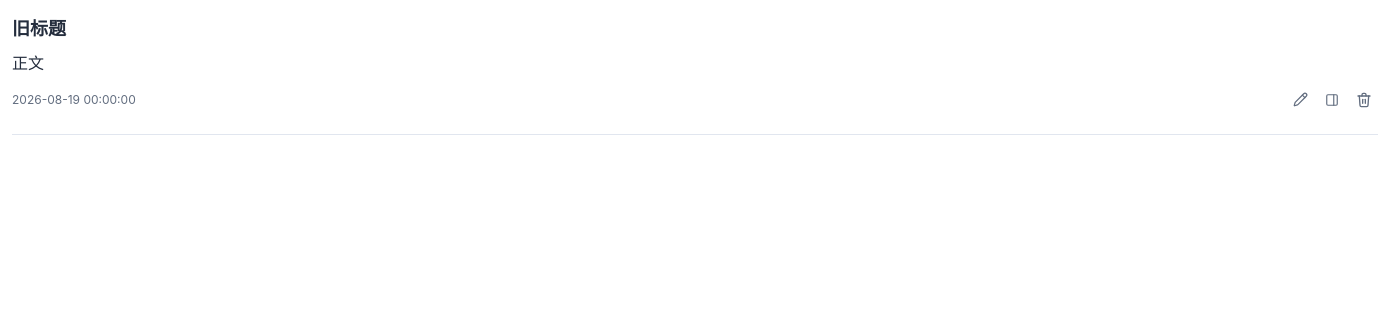
Test: ModernNoteCard title editing › fills and undoes an AI suggestion only in the draft, then cancels the whole edit
What coordinates should you click on to do the following:
click the text "正文"
I would click on:
 (28, 63)
Its box is top-left (12, 53), bottom-right (44, 73).
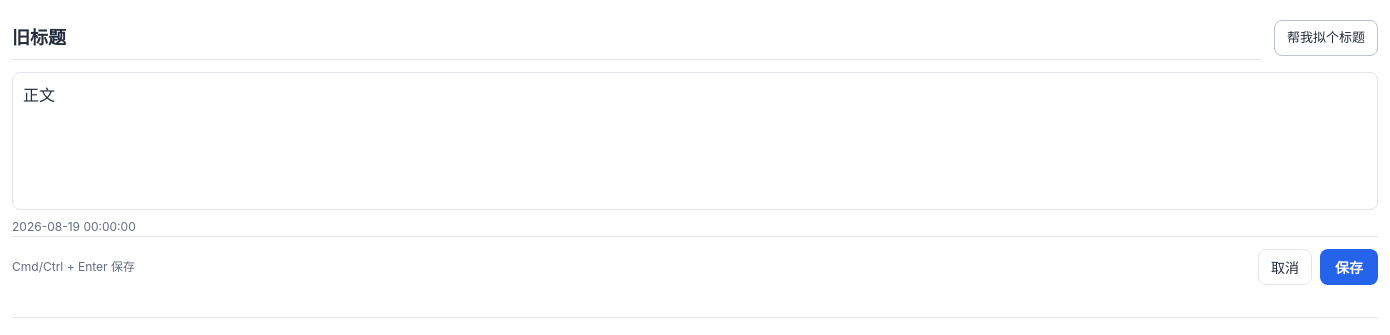
What coordinates should you click on to do the following:
click the button "帮我拟个标题"
I would click on:
 (1326, 38)
Its box is top-left (1274, 20), bottom-right (1378, 56).
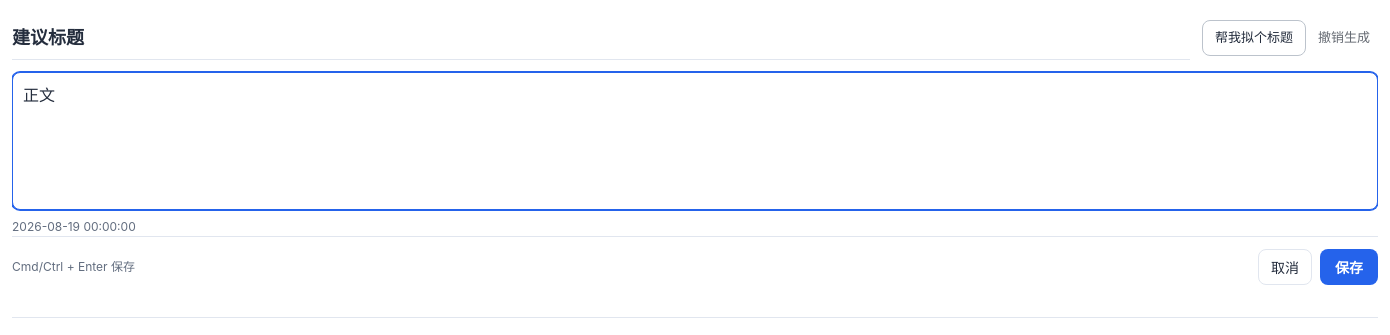
expect the field named "笔记标题" holds "建议标题": met, box top-left (12, 16), bottom-right (1190, 60)
What coordinates should you click on to do the following:
click the button "撤销生成"
I would click on:
 (1344, 38)
Its box is top-left (1310, 20), bottom-right (1378, 56).
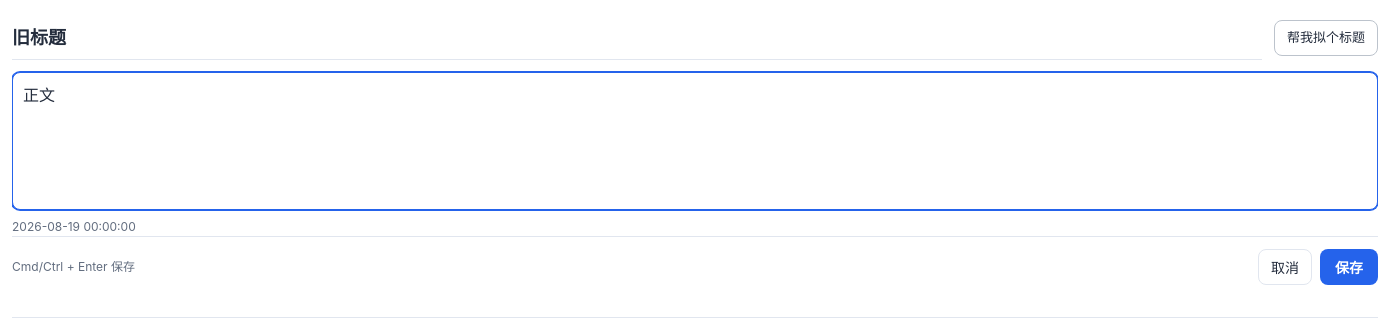
expect the field named "笔记标题" holds "旧标题": met, box top-left (12, 16), bottom-right (1262, 60)
What coordinates should you click on to do the following:
click the button "取消"
I would click on:
 (1285, 267)
Its box is top-left (1258, 249), bottom-right (1312, 285).
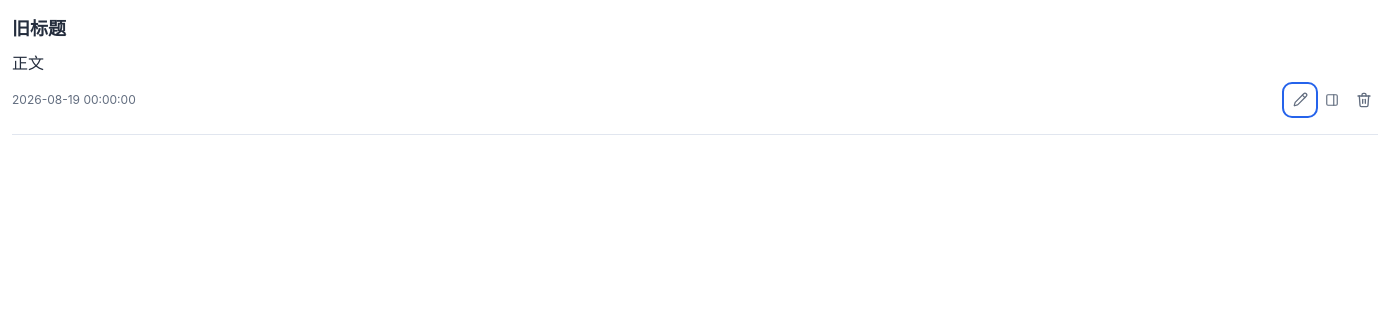
expect the field labelled "笔记标题" is gone: met
expect the button "帮我拟个标题" is gone: met
expect the button "旧标题" is shown: met, box top-left (12, 16), bottom-right (1366, 41)
